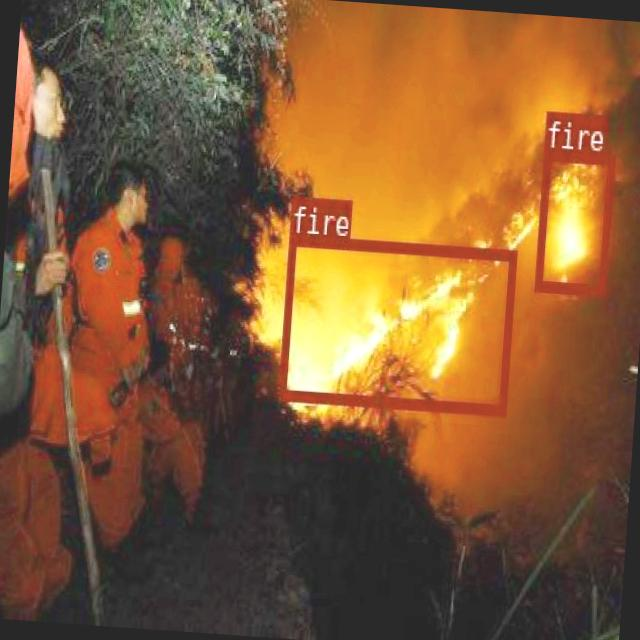fire: (277, 232, 515, 412), (532, 146, 614, 292)
